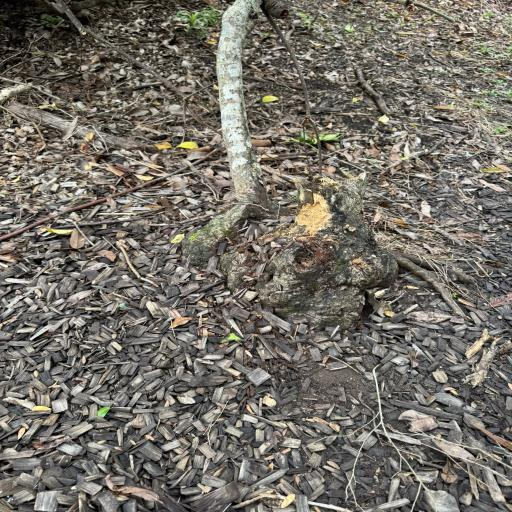tree root: (181, 0, 397, 332)
